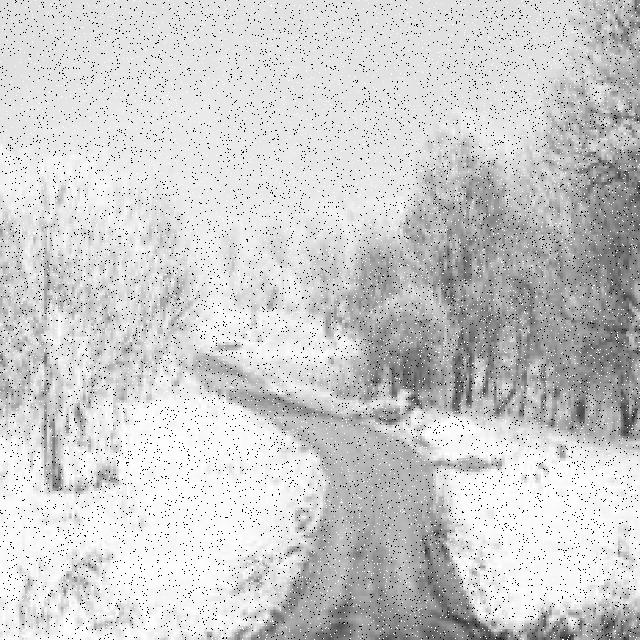clear-road: (198, 355, 497, 640)
